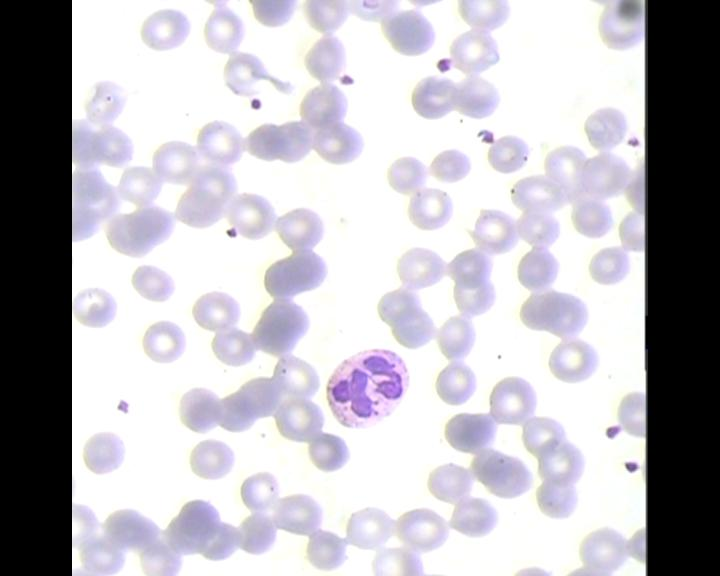neut: (324, 340, 411, 430)
